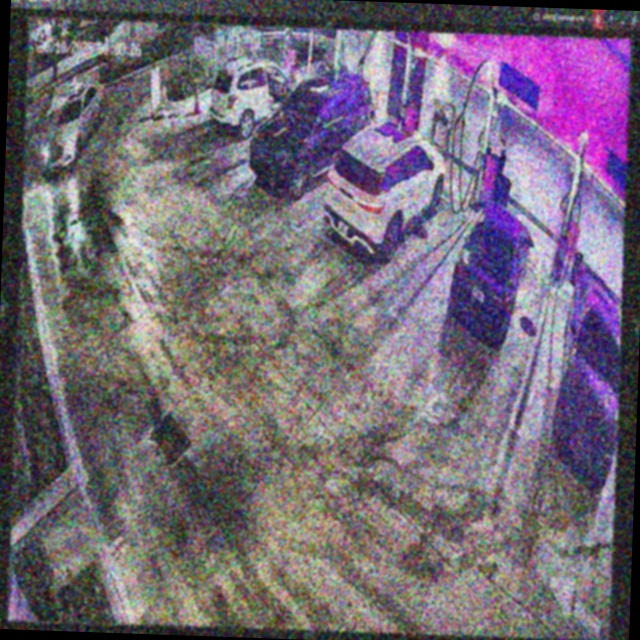Car: (329, 115, 446, 266), (247, 64, 376, 200), (449, 198, 533, 346)
